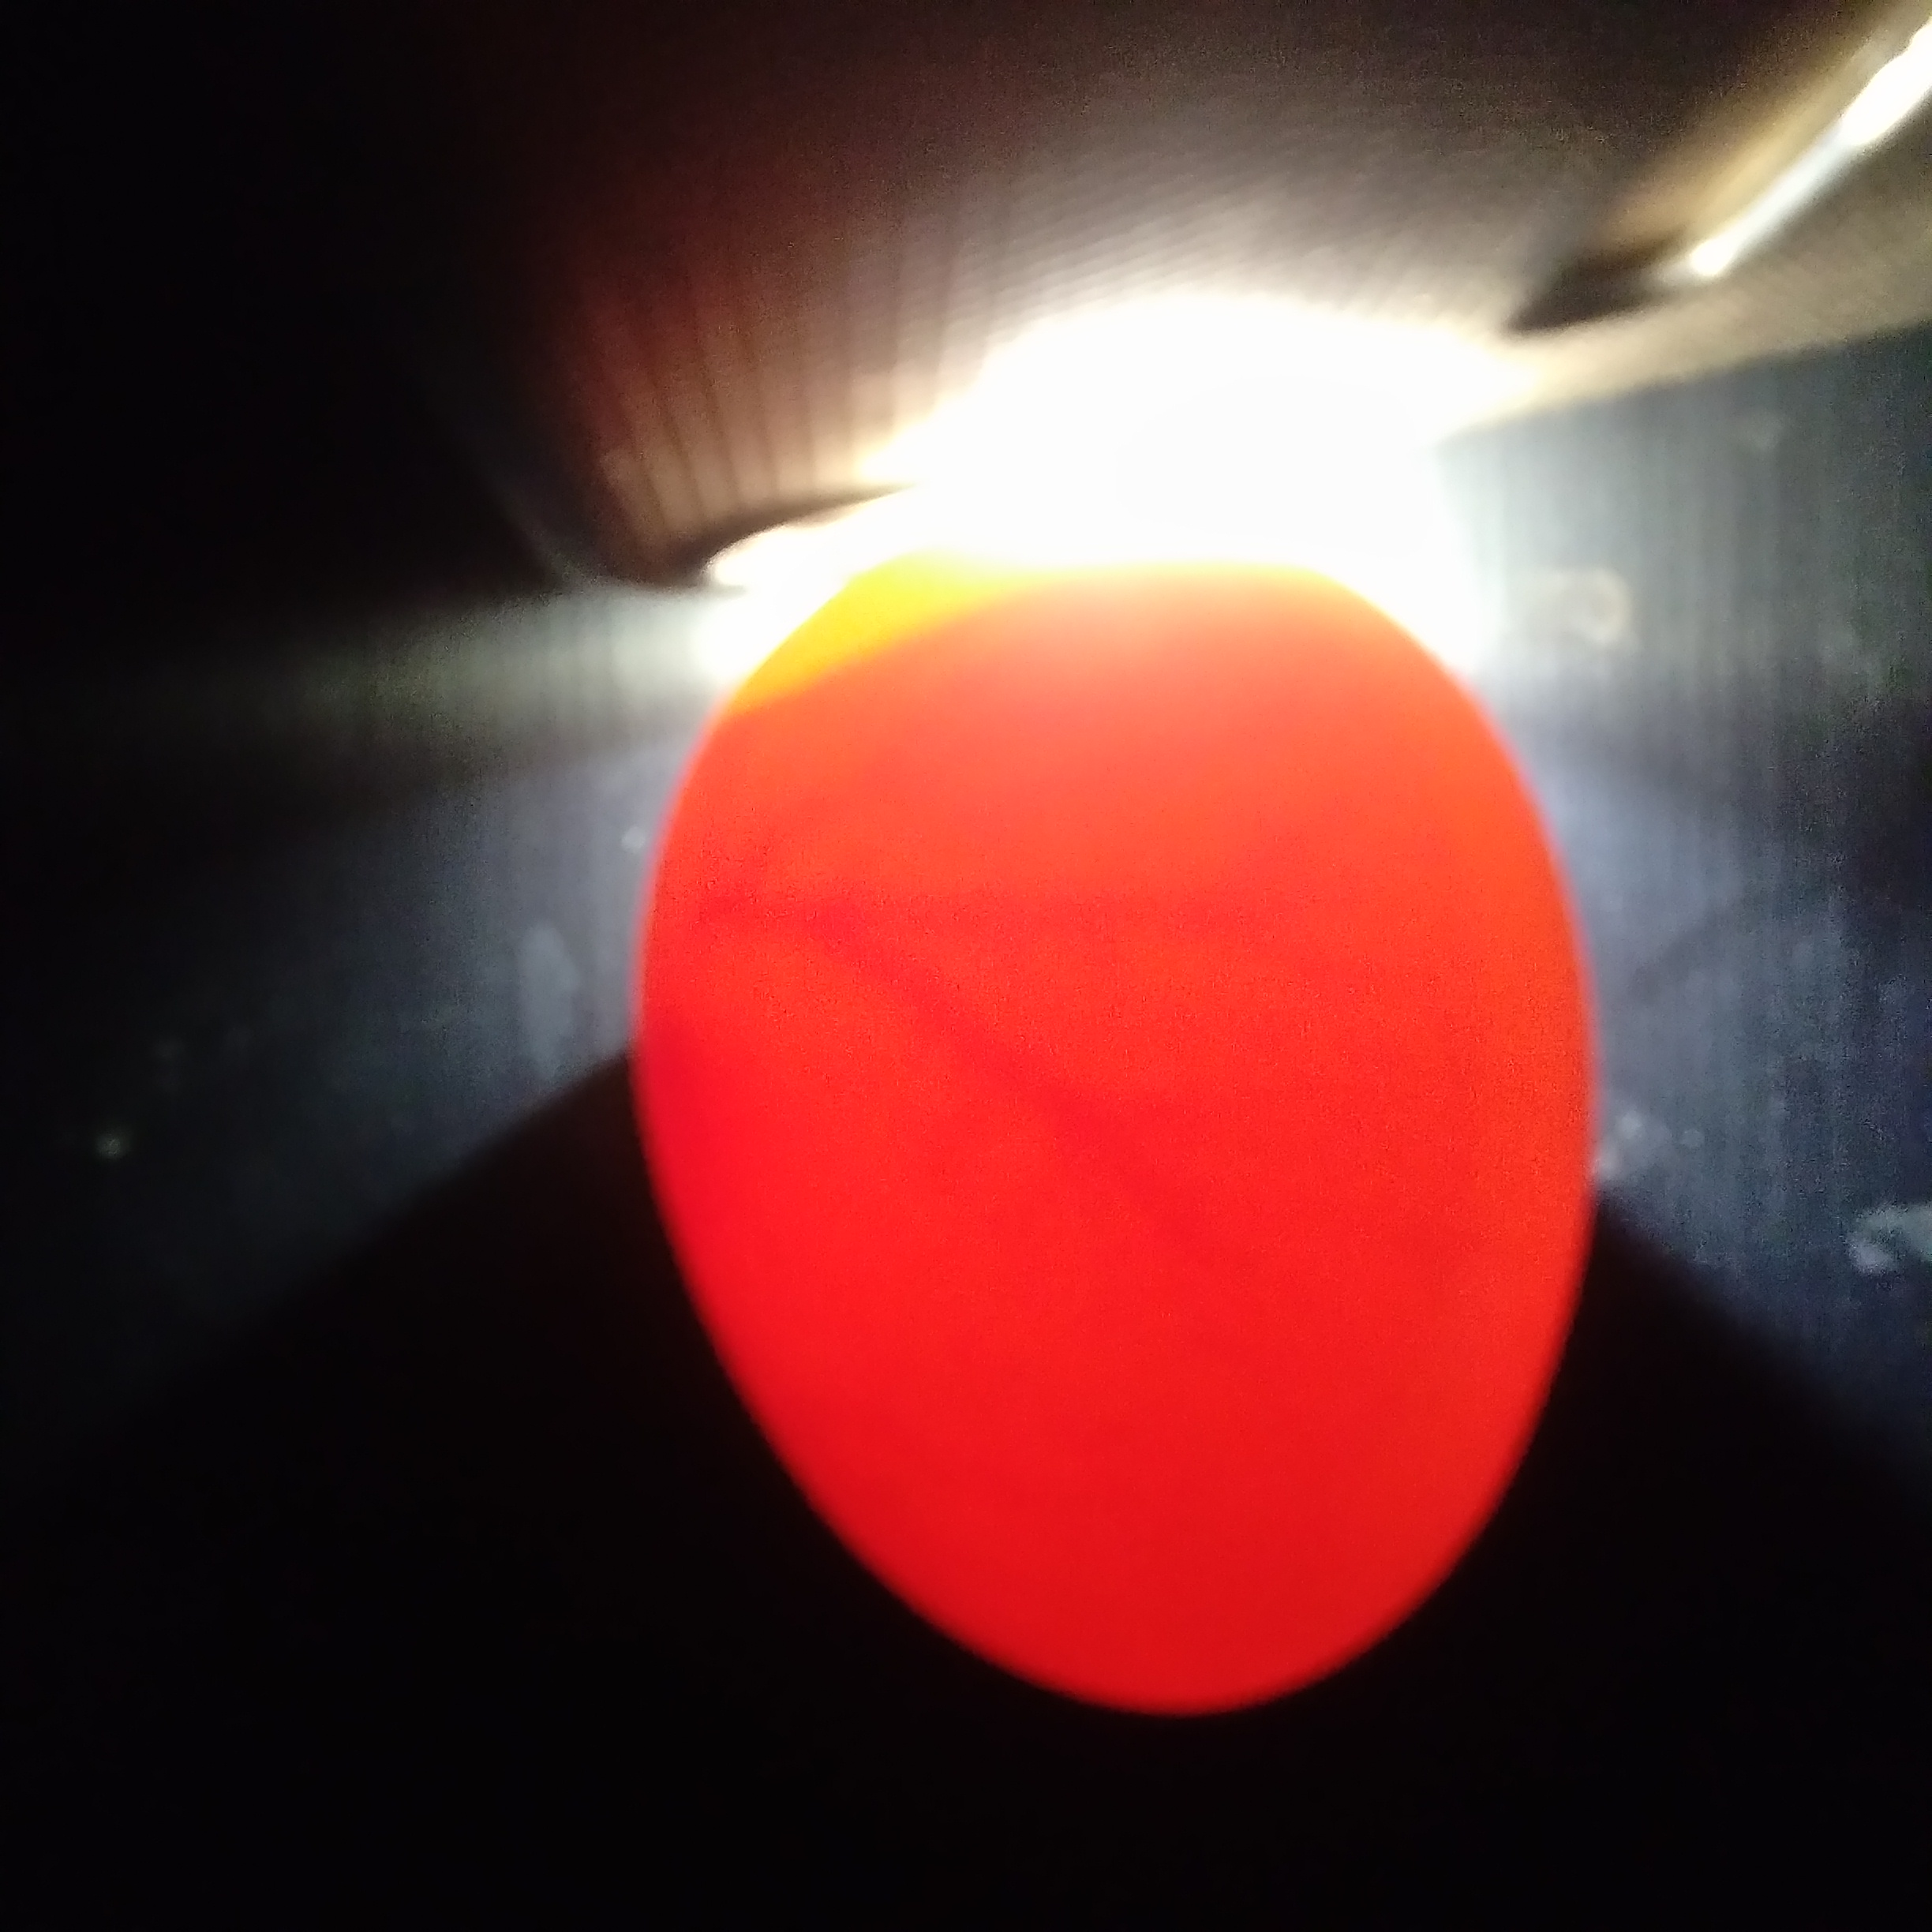bloodcell: (770, 839, 1486, 1329)
